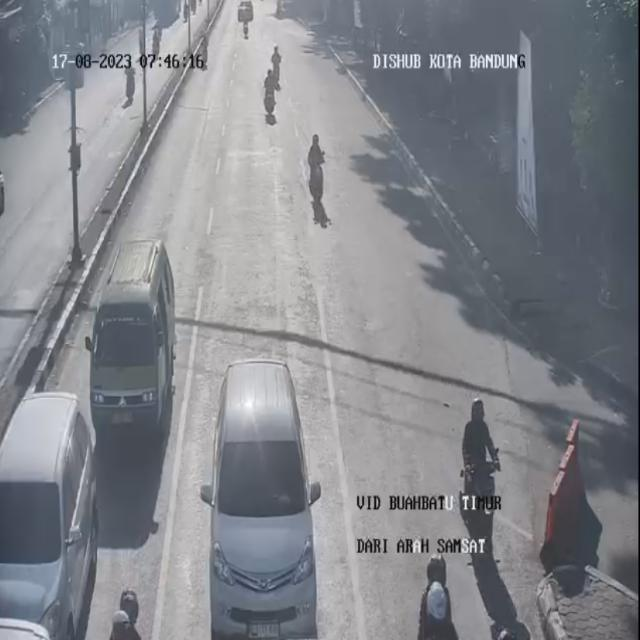cars: (208, 353, 314, 640), (0, 391, 101, 640), (85, 236, 176, 444)
motorcycle: (454, 397, 504, 583), (418, 550, 464, 639), (90, 589, 154, 640), (303, 128, 333, 215), (259, 65, 276, 124), (484, 623, 542, 640), (266, 37, 285, 88), (238, 0, 256, 39), (272, 0, 286, 18)
